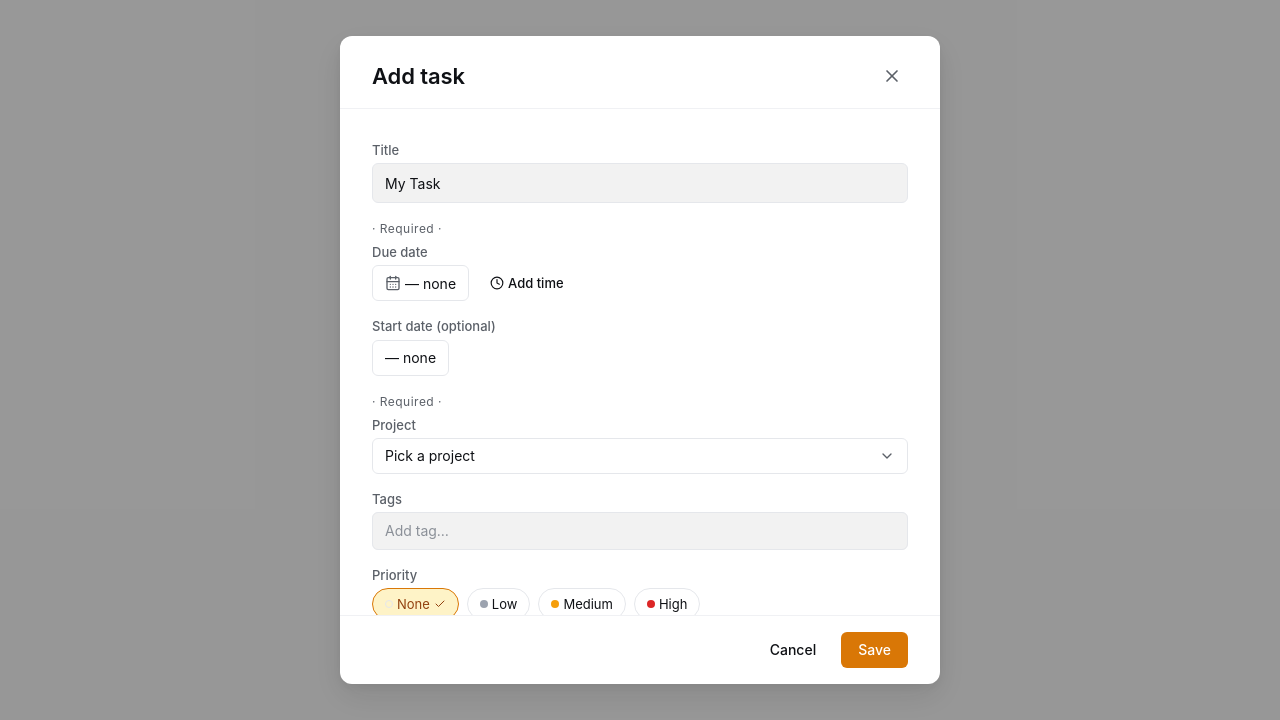
Test case: TaskModal — form validation › submitting with empty due date → shows "Pick a due date." error
This screenshot has width=1280, height=720.
Check: the dialog is shown, box [340,36,940,684]
What coordinates should you click on to do the following:
click the button "Save"
I would click on:
 (875, 650)
Its box is [841,632,908,668].
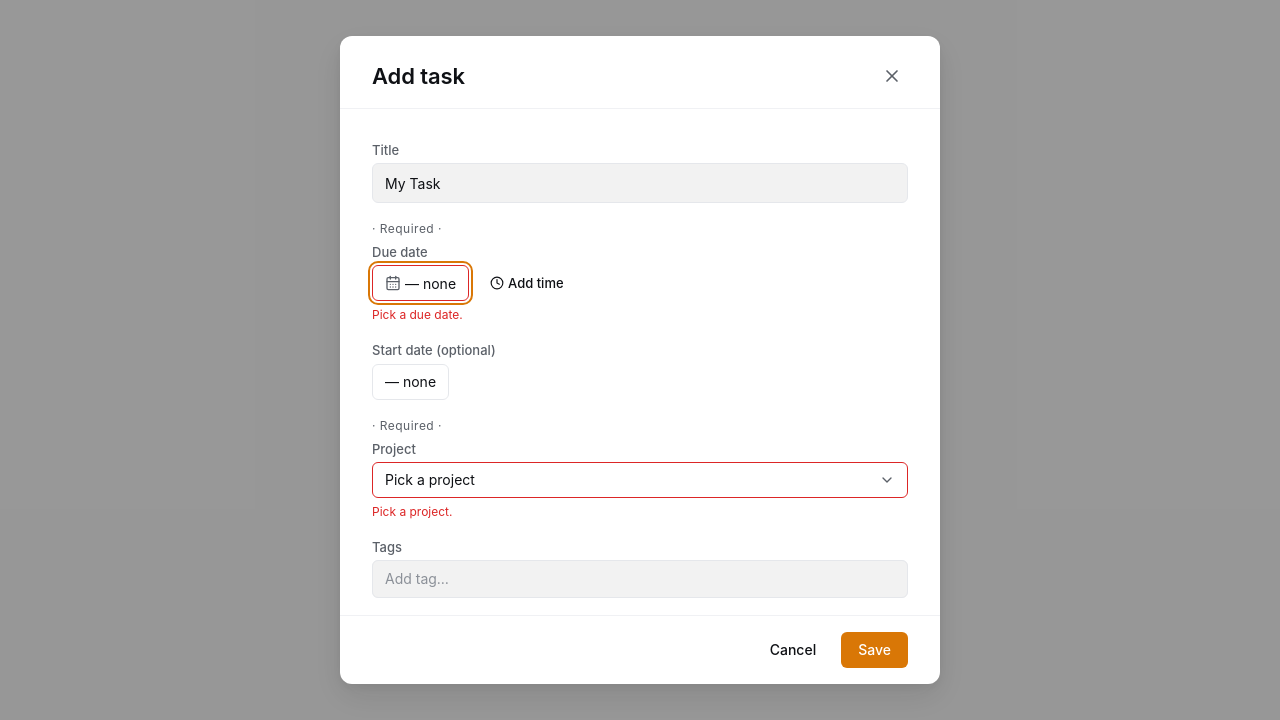
Check: the text "Pick a due date." is shown, box [372,307,463,322]
